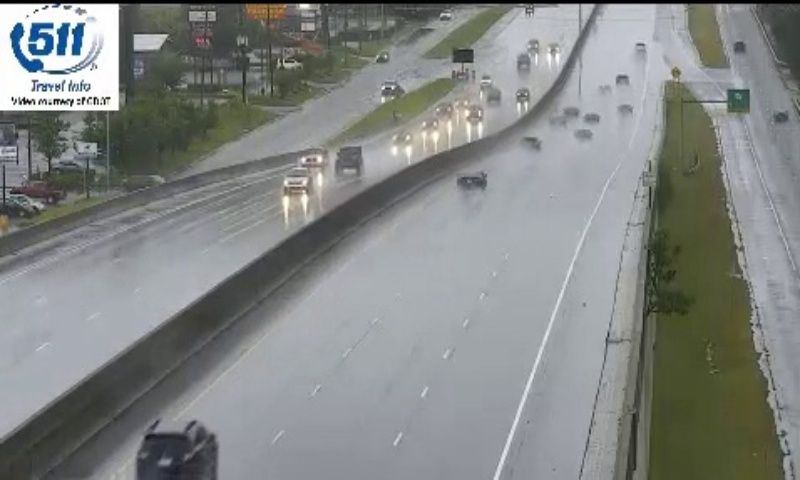car: (138, 419, 217, 480), (456, 169, 487, 190)
